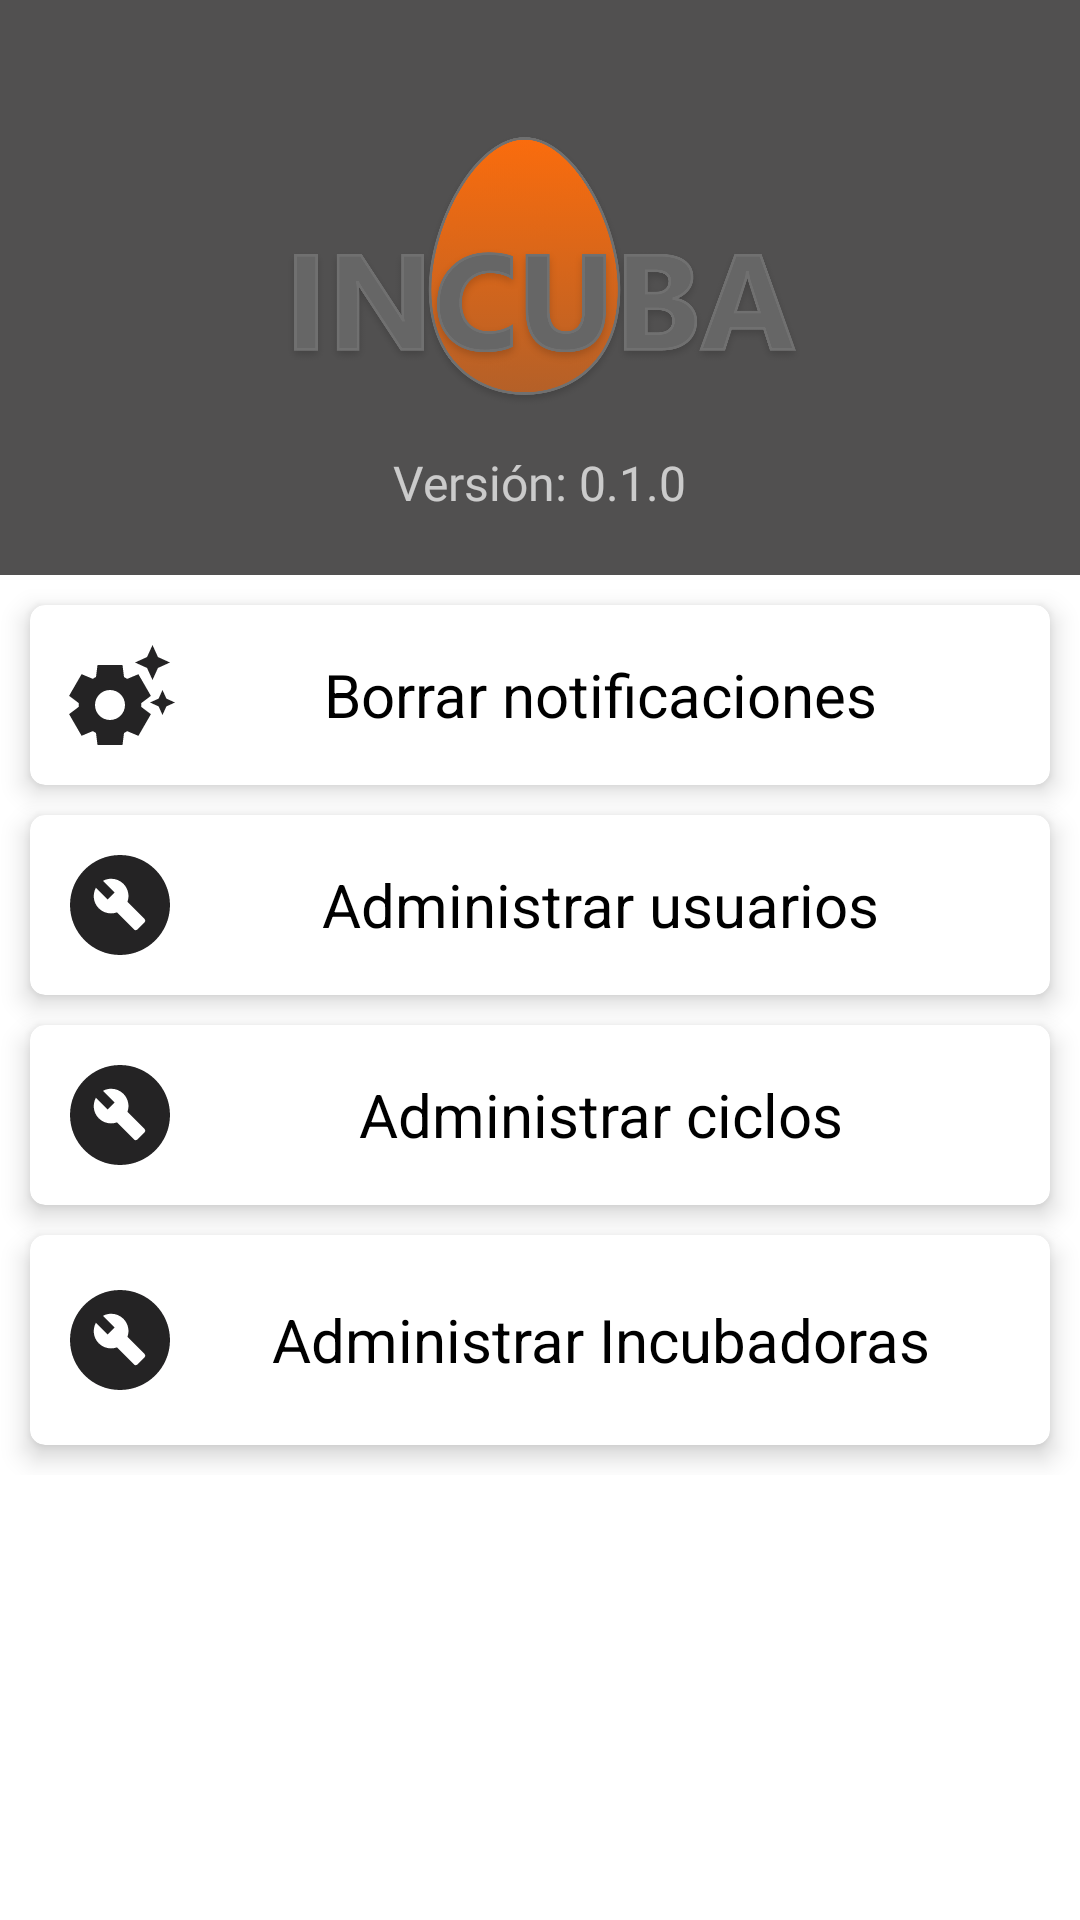

Locate icon controls on the screen. Image size 1080 × 1920, boxes as (x1, y1, x2, y2).
build circle: (70, 855, 170, 955), (70, 1065, 170, 1165), (70, 1290, 170, 1390)
settings suggest: (69, 645, 175, 745)
